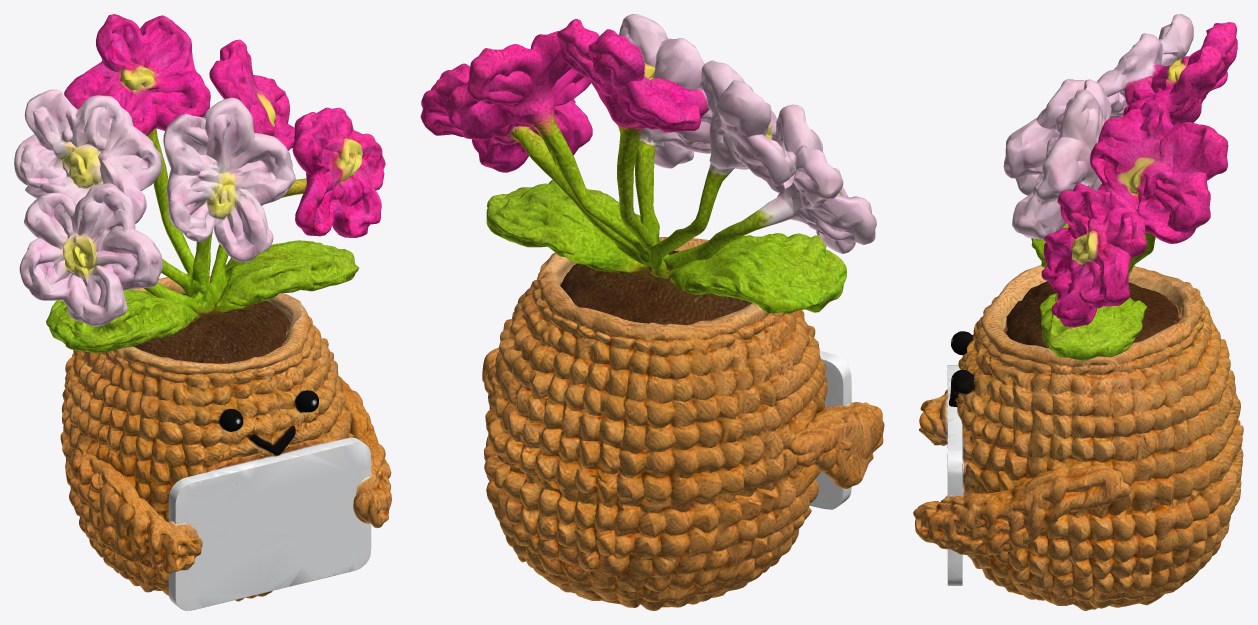
Rendered from bloom.glb.
3 renders of one model, left to right at view 1: azimuth 30°, elevation 25°; view 2: azimuth 150°, elevation 25°; view 3: azimuth 270°, elevation 25°, orthographic. The views are drawn at different scales.
Visible parts, largest first — view 1: body, trim, card, handL, handR; view 2: trim, body, handL, card; view 3: trim, body, handR, card, handL.
Boxes of the visible parts, x1=… form: body: x1=14, y1=14, x2=385, y2=353; trim: x1=60, y1=273, x2=354, y2=601; card: x1=168, y1=437, x2=371, y2=610; handL: x1=71, y1=449, x2=202, y2=574; handR: x1=338, y1=375, x2=391, y2=527; trim: x1=484, y1=237, x2=827, y2=610; body: x1=420, y1=14, x2=876, y2=314; handL: x1=789, y1=402, x2=884, y2=488; card: x1=809, y1=351, x2=851, y2=509; trim: x1=949, y1=265, x2=1243, y2=610; body: x1=1003, y1=14, x2=1237, y2=360; handR: x1=913, y1=464, x2=1130, y2=555; card: x1=947, y1=365, x2=962, y2=585; handL: x1=919, y1=389, x2=947, y2=445.
Bounding box in the file's own units: 1.43 × 1.89 × 1.05.
Materials: 5 (5 with a texture image).
